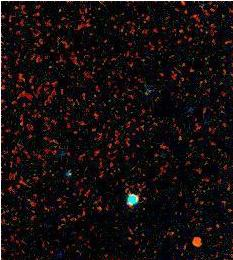star: (178, 226, 208, 256)
